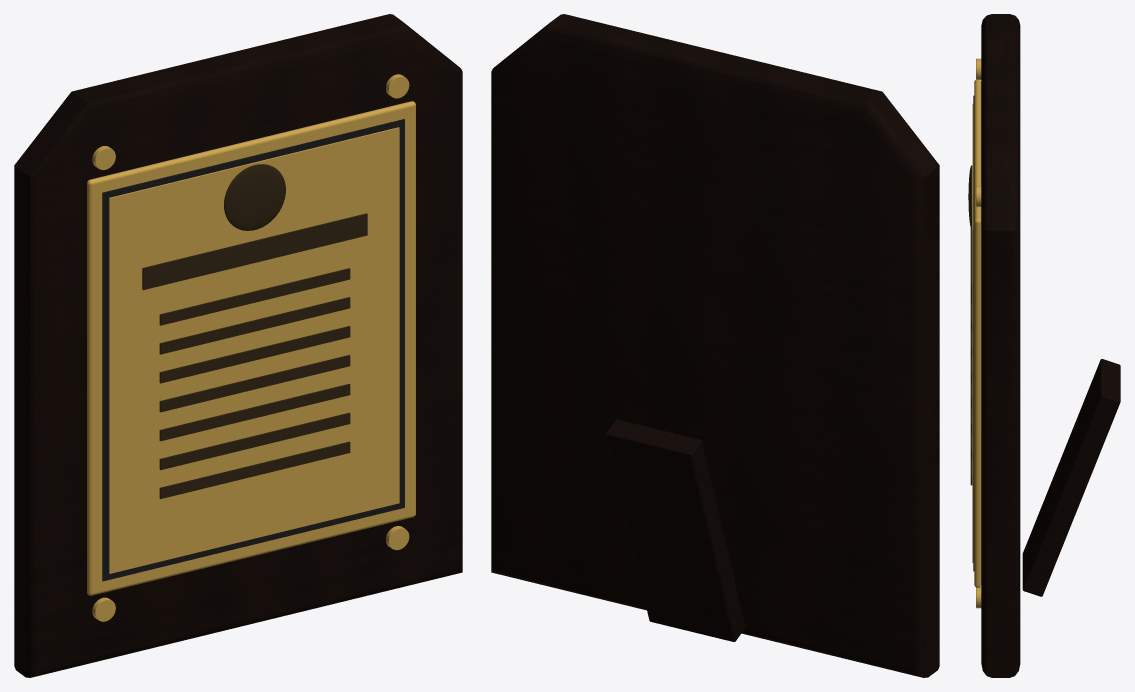
The model's file is plaque.glb.
3 renders of one model, left to right at view 1: azimuth 30°, elevation 25°; view 2: azimuth 150°, elevation 25°; view 3: azimuth 270°, elevation 25°, orthographic. The views are drawn at different scales.
Parts seen in each view (by area): view 1: board, inner, plate, text line (×7), border, title line, crest; view 2: board, stand; view 3: board, stand, plate, border, inner, crest.
Boxes of the visible parts, bbox=[...] form: board: bbox=[14, 14, 462, 677]; inner: bbox=[109, 127, 399, 573]; plate: bbox=[87, 101, 415, 595]; text line (×7): bbox=[159, 268, 350, 498]; border: bbox=[102, 119, 404, 581]; title line: bbox=[142, 213, 367, 290]; crest: bbox=[224, 164, 285, 230]; board: bbox=[491, 14, 939, 677]; stand: bbox=[605, 419, 745, 641]; board: bbox=[981, 14, 1020, 677]; stand: bbox=[1022, 359, 1120, 596]; plate: bbox=[974, 80, 981, 587]; border: bbox=[973, 95, 974, 571]; inner: bbox=[972, 103, 973, 562]; crest: bbox=[968, 165, 972, 228].
Size of the model in its own units: 0.252 by 0.312 by 0.0859.
4 materials, 1 textured.
